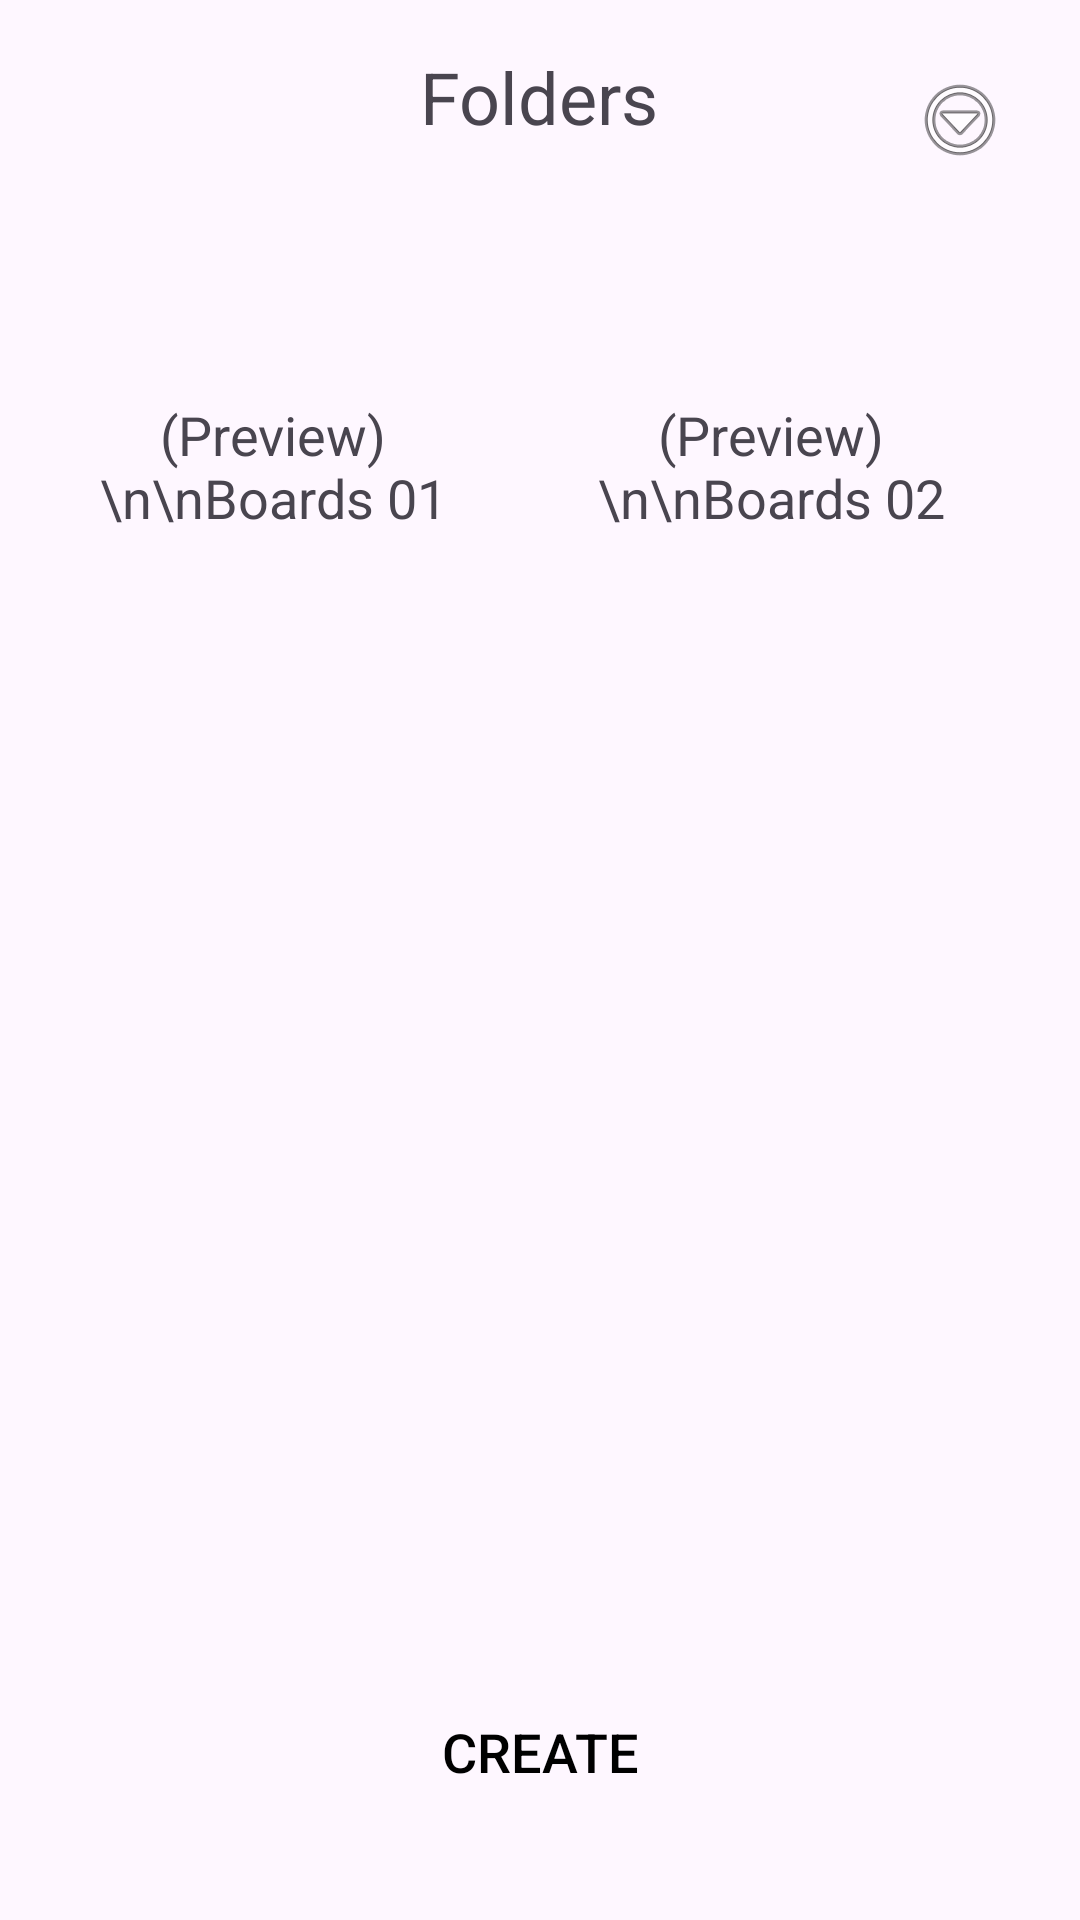

Icons on this 1080 × 1920 Android screen, each with its box as (x1, y1, x2, y2):
more: (924, 84, 996, 156)
